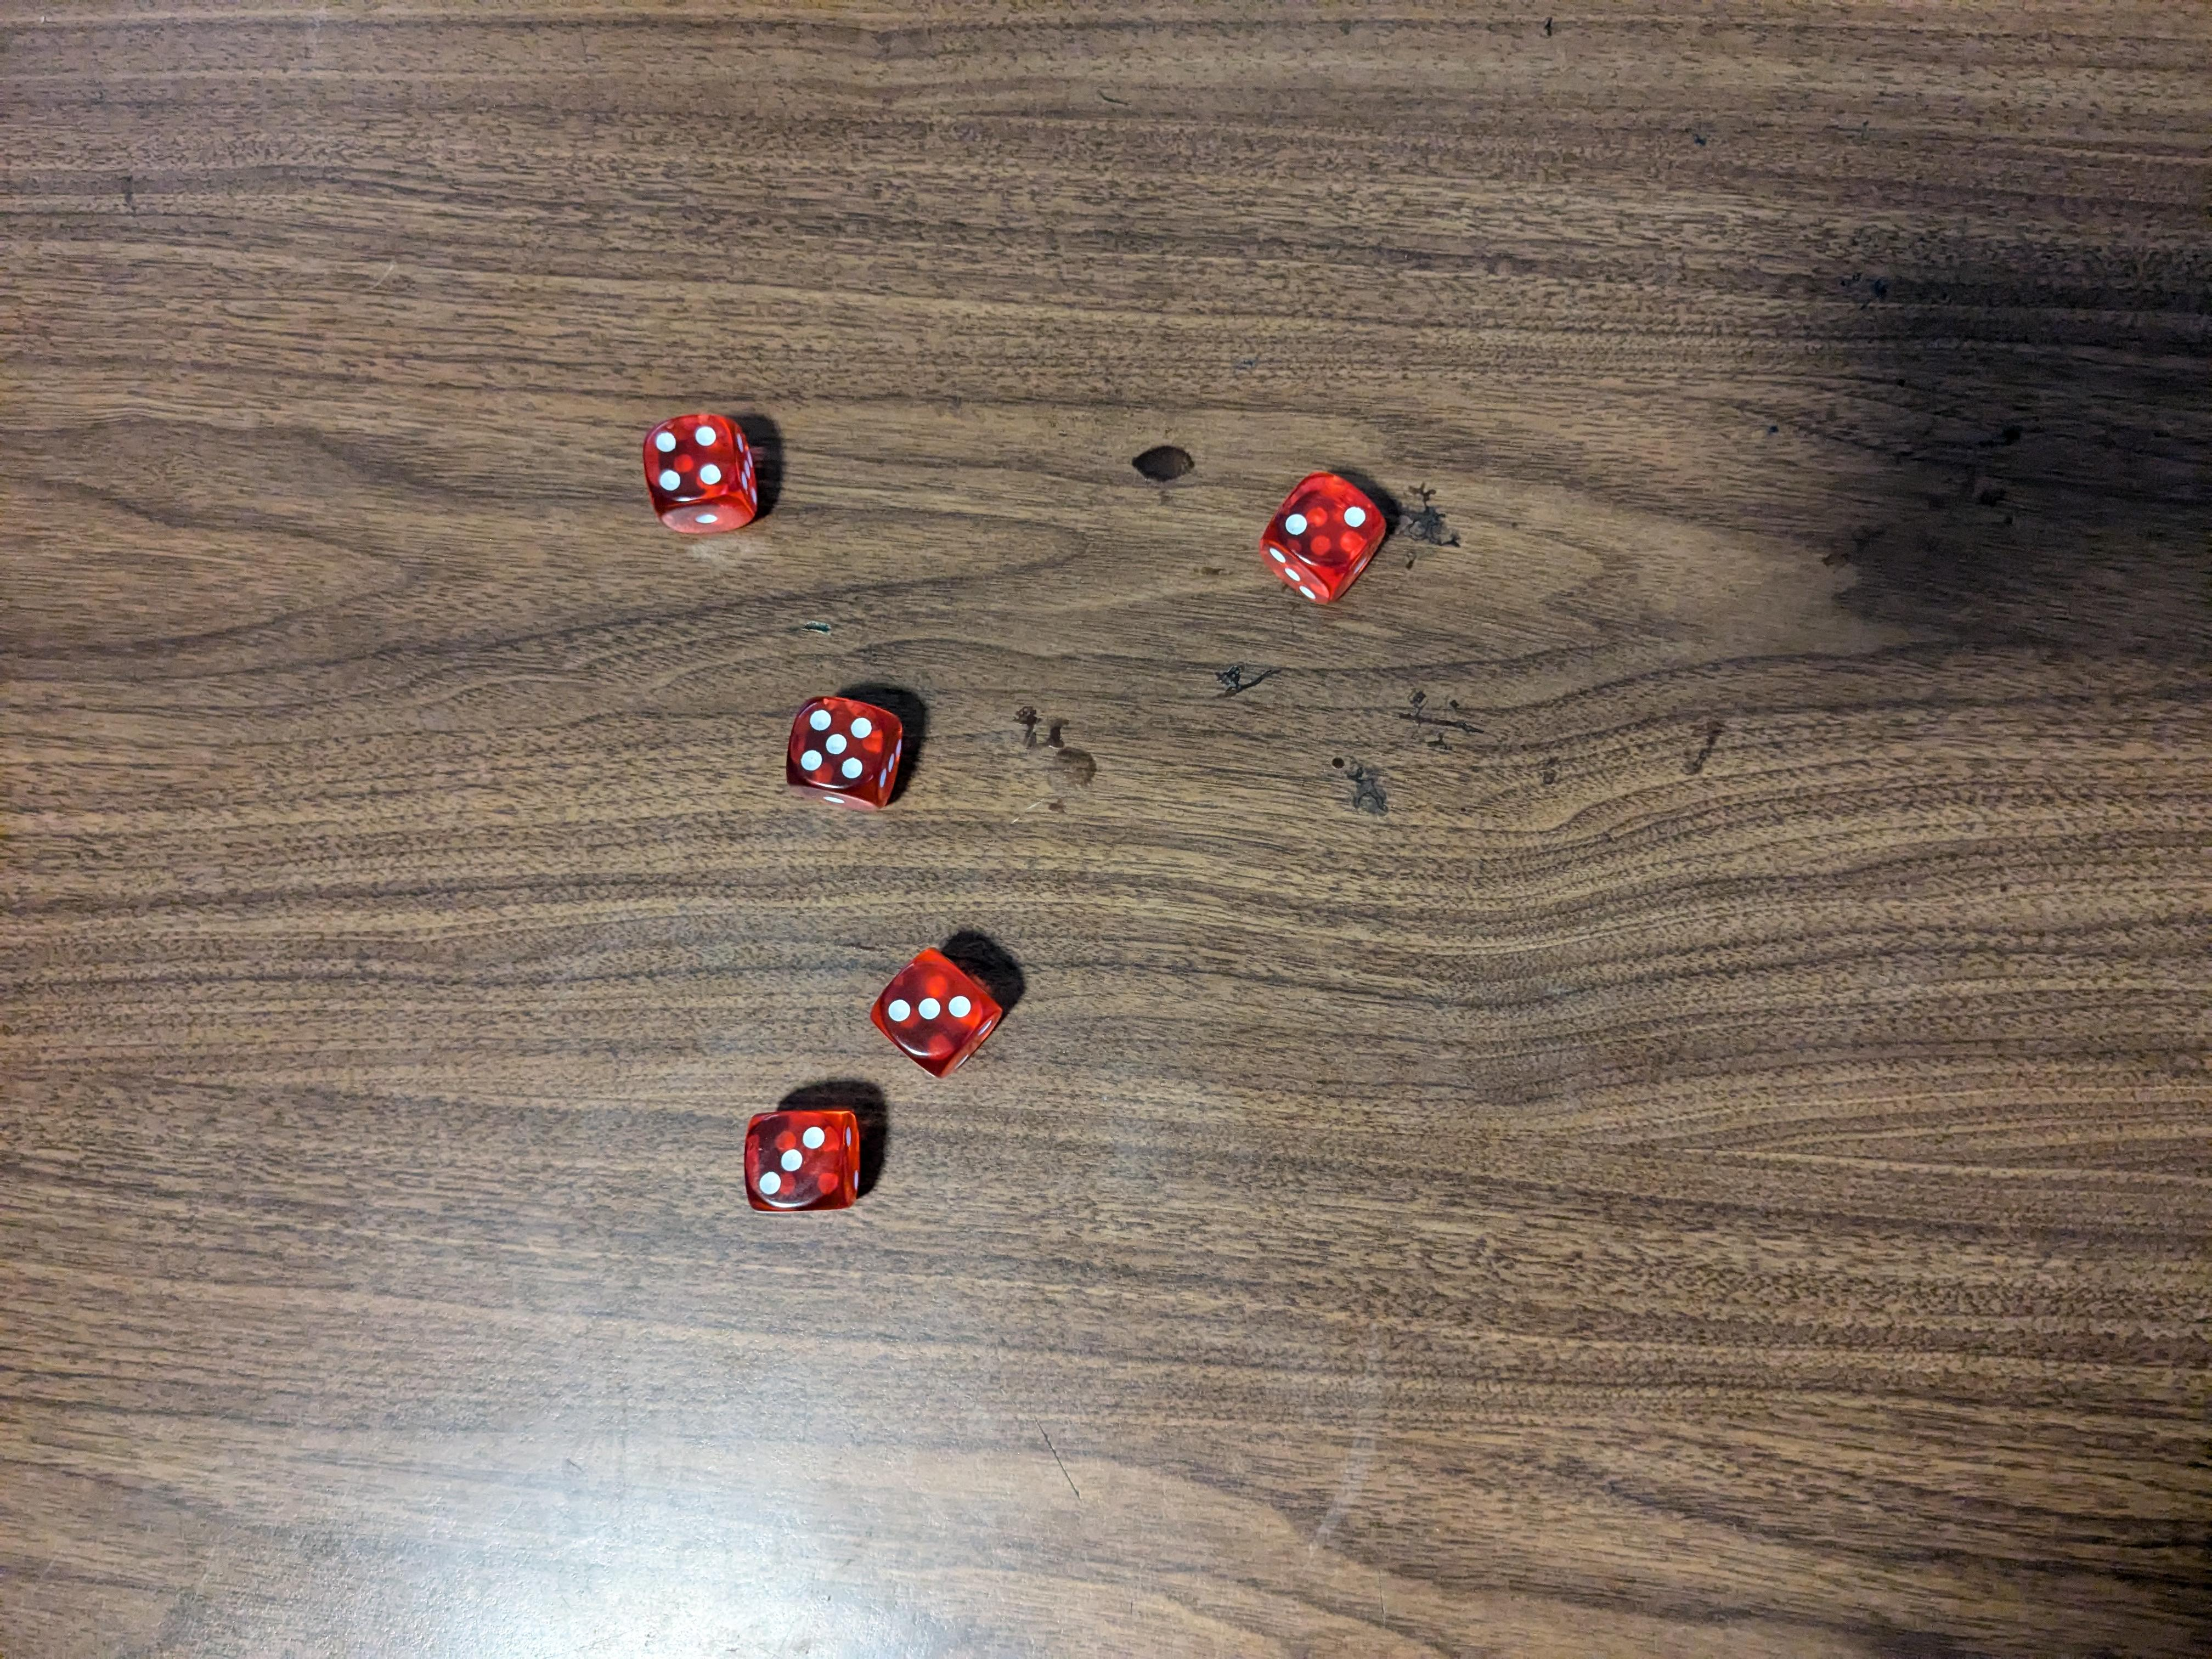five: (784, 692, 907, 803)
four: (637, 408, 761, 538)
three: (862, 945, 1008, 1080), (751, 1105, 860, 1216)
two: (1258, 464, 1395, 608)
